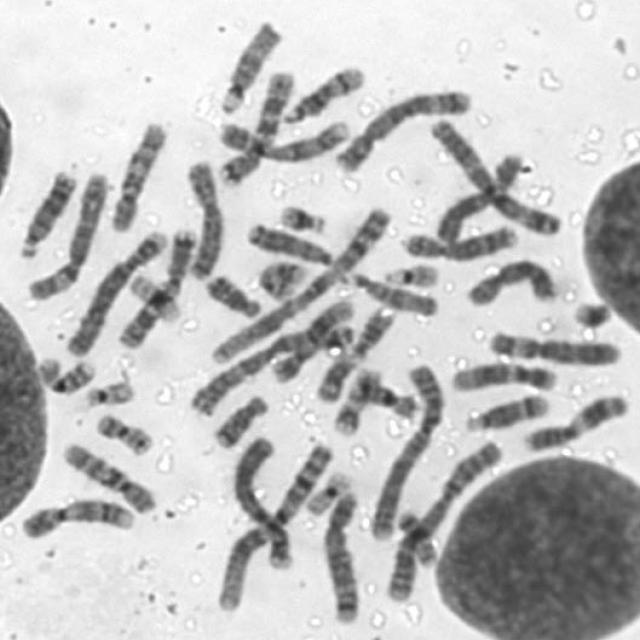A1: (206, 202, 398, 368), (212, 437, 338, 616)
A2: (380, 434, 506, 606), (366, 358, 446, 542)
A3: (426, 115, 561, 238), (188, 324, 356, 418)
B4: (62, 226, 172, 357), (231, 435, 296, 572)
B5: (330, 85, 473, 174), (319, 486, 362, 626)
C10: (106, 117, 170, 234), (60, 439, 158, 515)
C11: (311, 305, 398, 404), (518, 390, 630, 454)
C12: (272, 296, 358, 385), (446, 357, 562, 394)
C6: (22, 167, 112, 302), (484, 326, 621, 366)
C7: (112, 226, 198, 351), (213, 67, 296, 187)
C8: (461, 253, 560, 310), (398, 221, 519, 262)
C9: (216, 120, 351, 168), (18, 494, 138, 540)
D13: (15, 166, 78, 261), (243, 219, 333, 267)
D14: (277, 62, 365, 126), (461, 390, 552, 434)
D15: (215, 19, 283, 117), (340, 268, 439, 317)
E16: (348, 365, 420, 420), (34, 353, 97, 397)
E17: (328, 364, 383, 436), (254, 257, 310, 301)
E18: (208, 391, 270, 449), (202, 270, 264, 320)
F19: (124, 269, 182, 324), (302, 467, 354, 517)
F20: (92, 410, 155, 458), (396, 506, 438, 572)
G21: (276, 200, 329, 236), (568, 295, 614, 331)
G22: (80, 377, 135, 408), (380, 260, 440, 288)
X: (431, 150, 525, 246), (182, 156, 225, 282)
